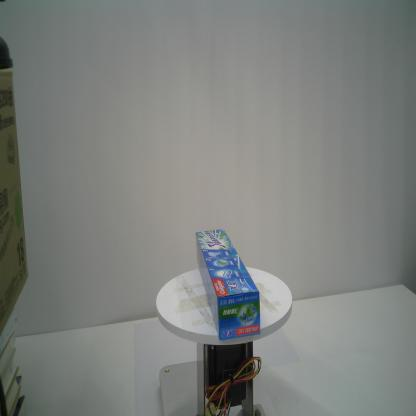Personal Hygiene: (196, 229, 260, 342)
